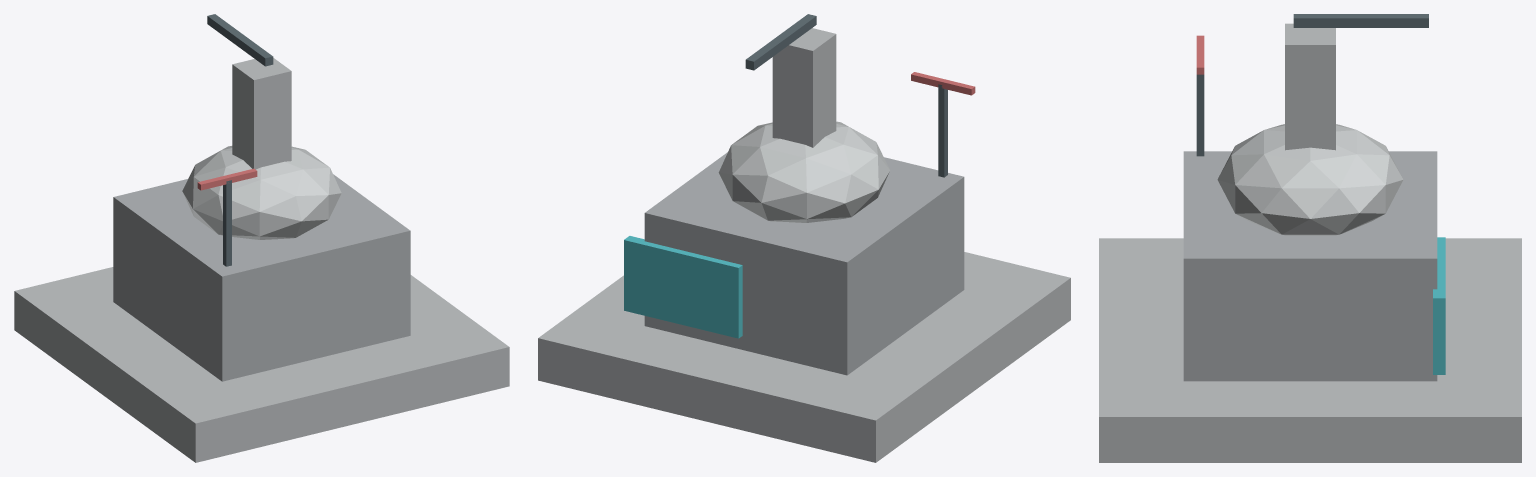
The model's file is radar_base.glb.
3 renders of one model, left to right at view 1: azimuth 30°, elevation 25°; view 2: azimuth 150°, elevation 25°; view 3: azimuth 270°, elevation 25°, orthographic. The views are drawn at different scales.
Parts seen in each view (by area): view 1: p0, p1, p3, p2, p4, p5, p6; view 2: p0, p1, p3, p7, p2, p4, p5, p6; view 3: p0, p1, p3, p2, p4, p7, p5.
Part boxes in pixels (x1=…): p0: x1=14, y1=267, x2=509, y2=462; p1: x1=113, y1=174, x2=410, y2=381; p3: x1=182, y1=146, x2=341, y2=239; p2: x1=232, y1=58, x2=291, y2=169; p4: x1=207, y1=14, x2=273, y2=66; p5: x1=223, y1=180, x2=231, y2=266; p6: x1=197, y1=168, x2=257, y2=190; p0: x1=538, y1=252, x2=1070, y2=462; p1: x1=644, y1=152, x2=964, y2=375; p3: x1=718, y1=121, x2=889, y2=222; p7: x1=624, y1=236, x2=742, y2=338; p2: x1=772, y1=28, x2=836, y2=147; p4: x1=745, y1=14, x2=816, y2=70; p5: x1=938, y1=84, x2=947, y2=177; p6: x1=911, y1=72, x2=975, y2=95; p0: x1=1099, y1=238, x2=1521, y2=462; p1: x1=1183, y1=151, x2=1437, y2=381; p3: x1=1217, y1=124, x2=1403, y2=235; p2: x1=1285, y1=23, x2=1335, y2=150; p4: x1=1293, y1=14, x2=1428, y2=27; p7: x1=1433, y1=237, x2=1445, y2=374; p5: x1=1196, y1=74, x2=1204, y2=156.
Bounding box in the file's own units: 10 × 9.32 × 10.
